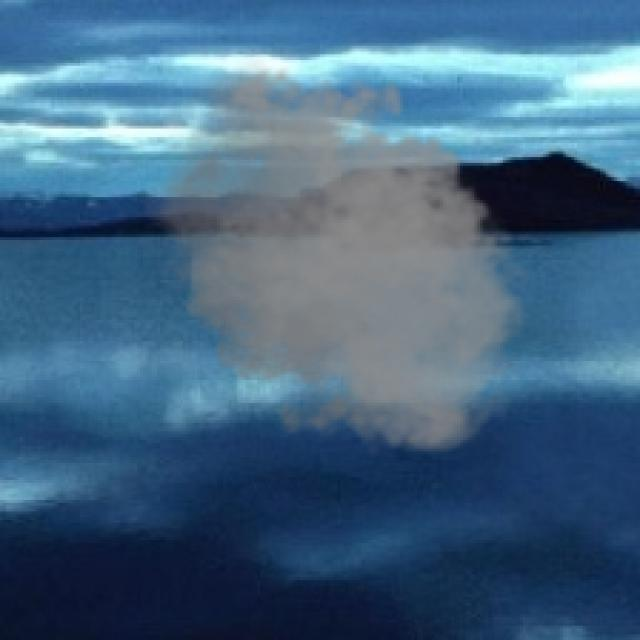Smoke: (132, 54, 537, 460)
